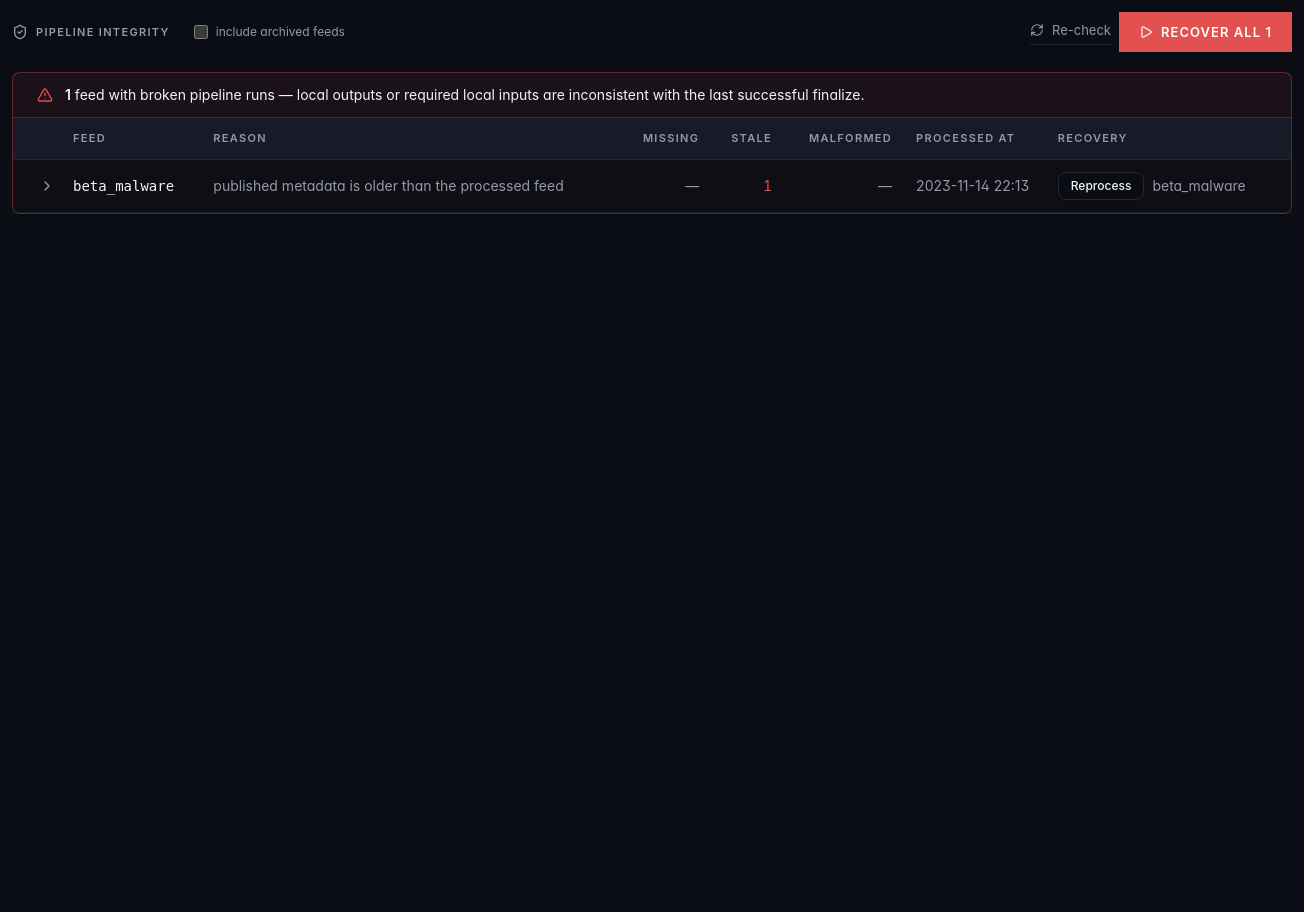
it: shows integrity recovery failure without a misleading success toast
Expected: the text "published metadata is older than the processed feed" is shown, x1=201 y1=160 x2=621 y2=213
Click the button "Recover all 1". click: (1206, 32)
box: x1=1119 y1=12 x2=1292 y2=52
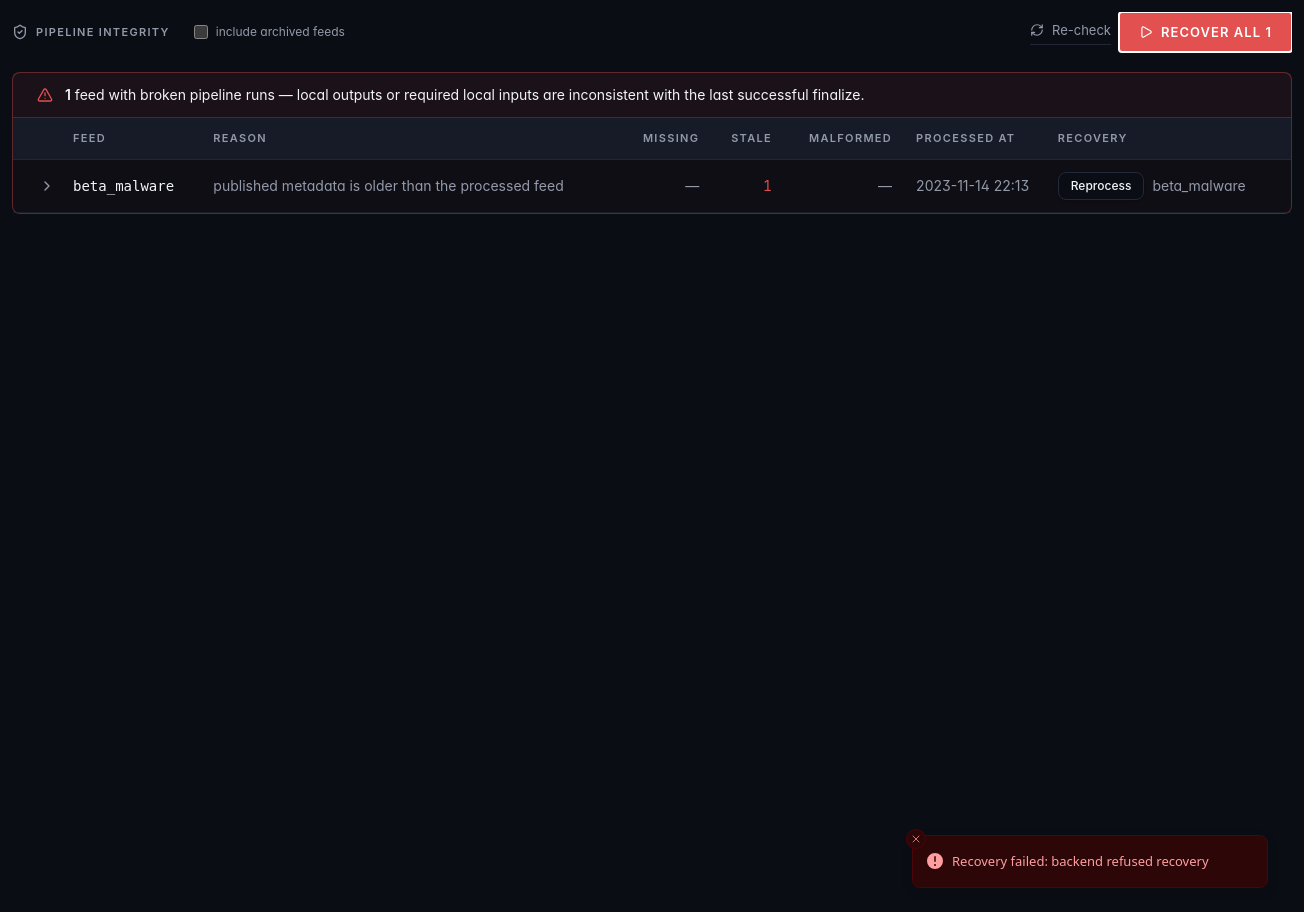
Expected: the text "Recovery failed: backend refused recovery" is shown, x1=952 y1=852 x2=1209 y2=871
